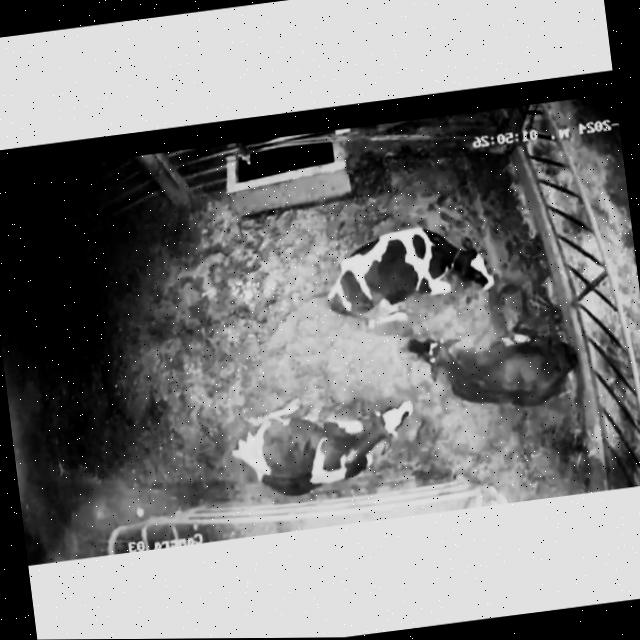lay: (304, 207, 507, 346), (219, 377, 427, 503), (406, 317, 598, 420)
